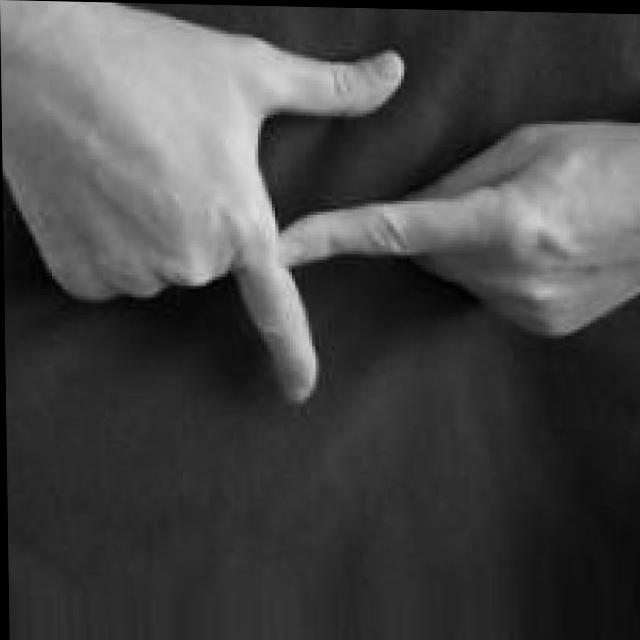F: (0, 0, 640, 417)
